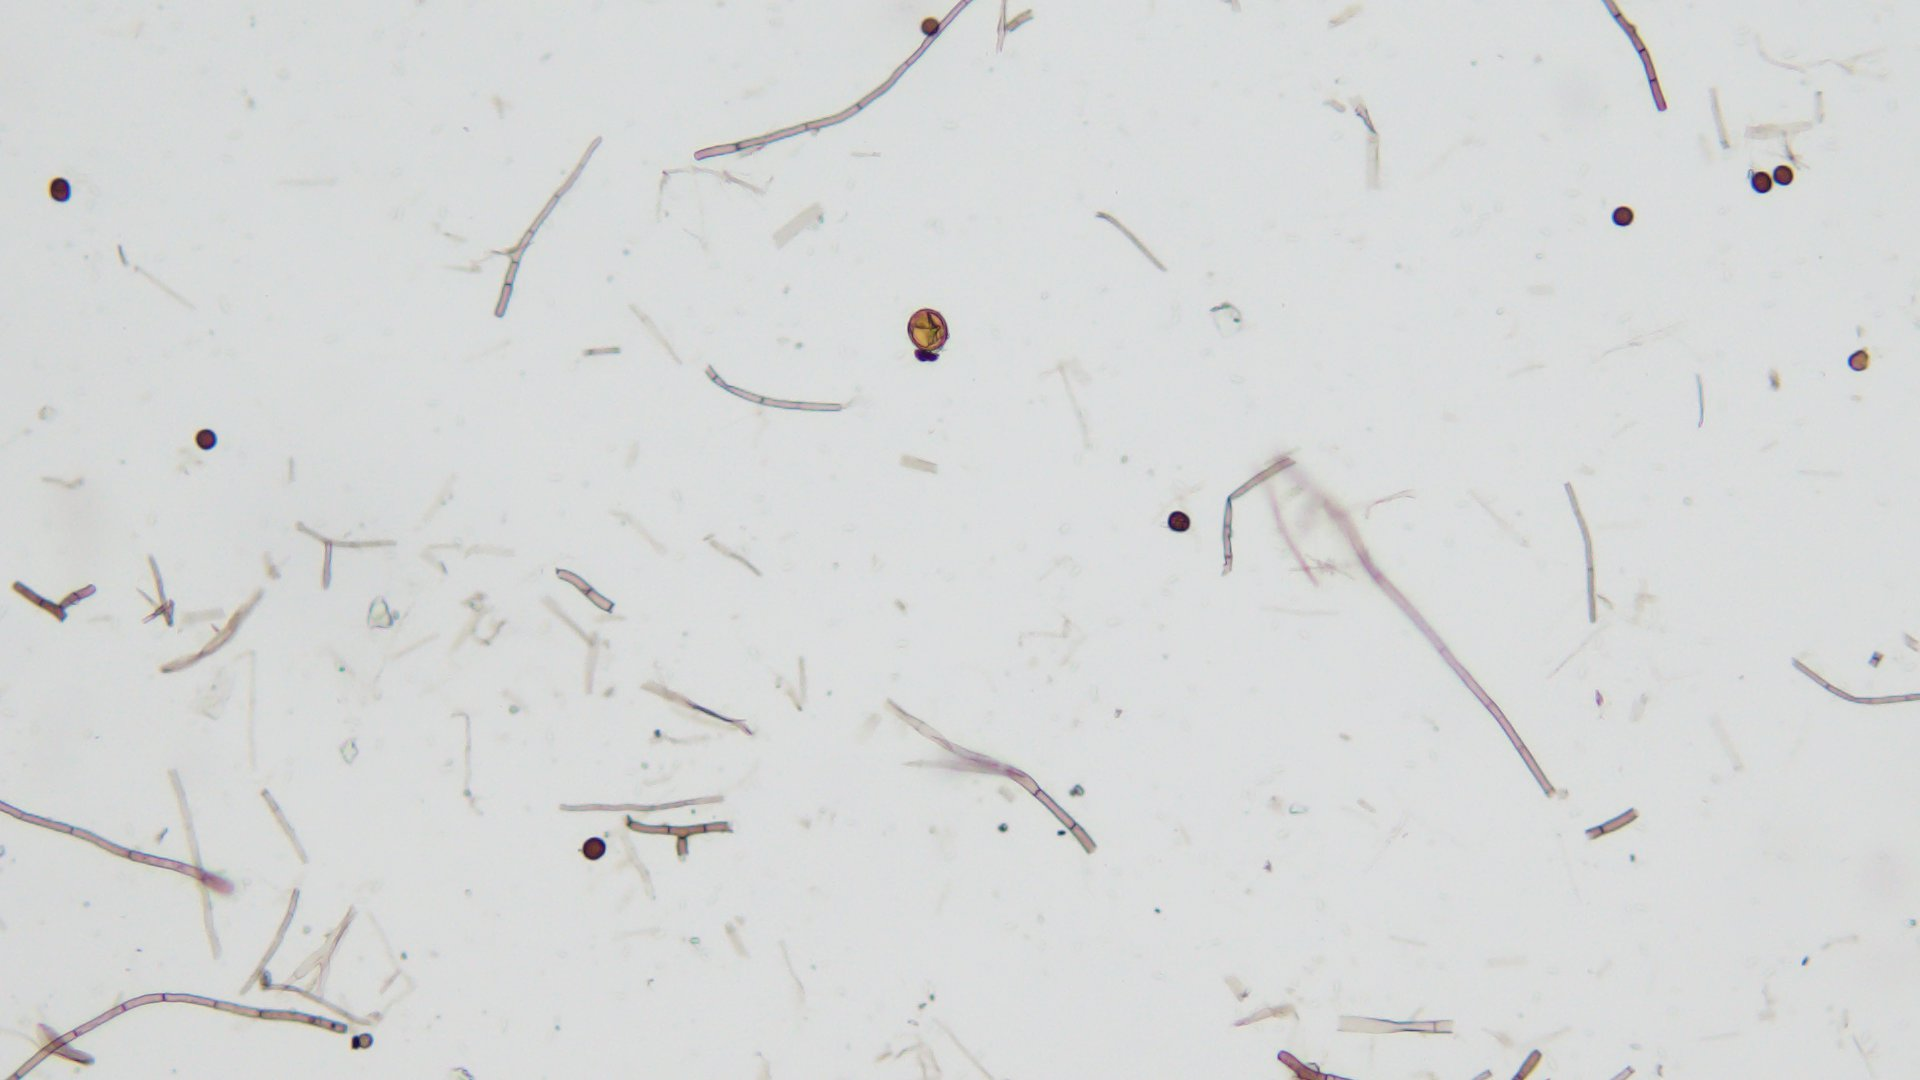shs_spore: (49, 175, 73, 203), (1750, 171, 1774, 196), (583, 835, 605, 861), (1168, 510, 1193, 530), (1611, 204, 1634, 225), (195, 429, 214, 450), (1772, 167, 1793, 186), (920, 18, 938, 37)
xb_spore: (906, 310, 953, 349)
